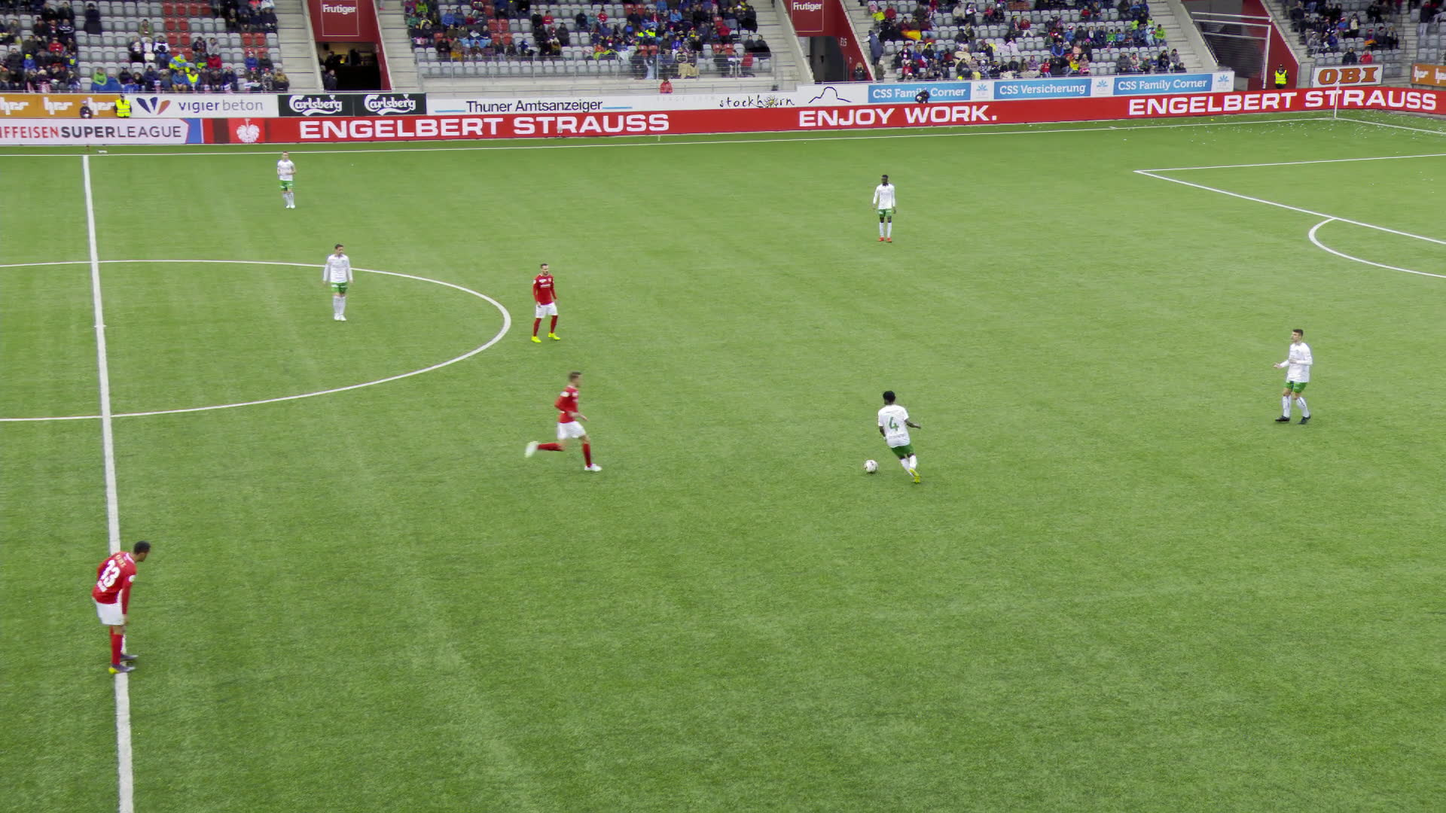ball: (865, 458, 880, 472)
player: (95, 535, 156, 676), (873, 388, 929, 485), (545, 372, 590, 478), (1275, 331, 1316, 431), (531, 262, 565, 343), (324, 243, 357, 321), (875, 173, 900, 242), (276, 148, 304, 209)
